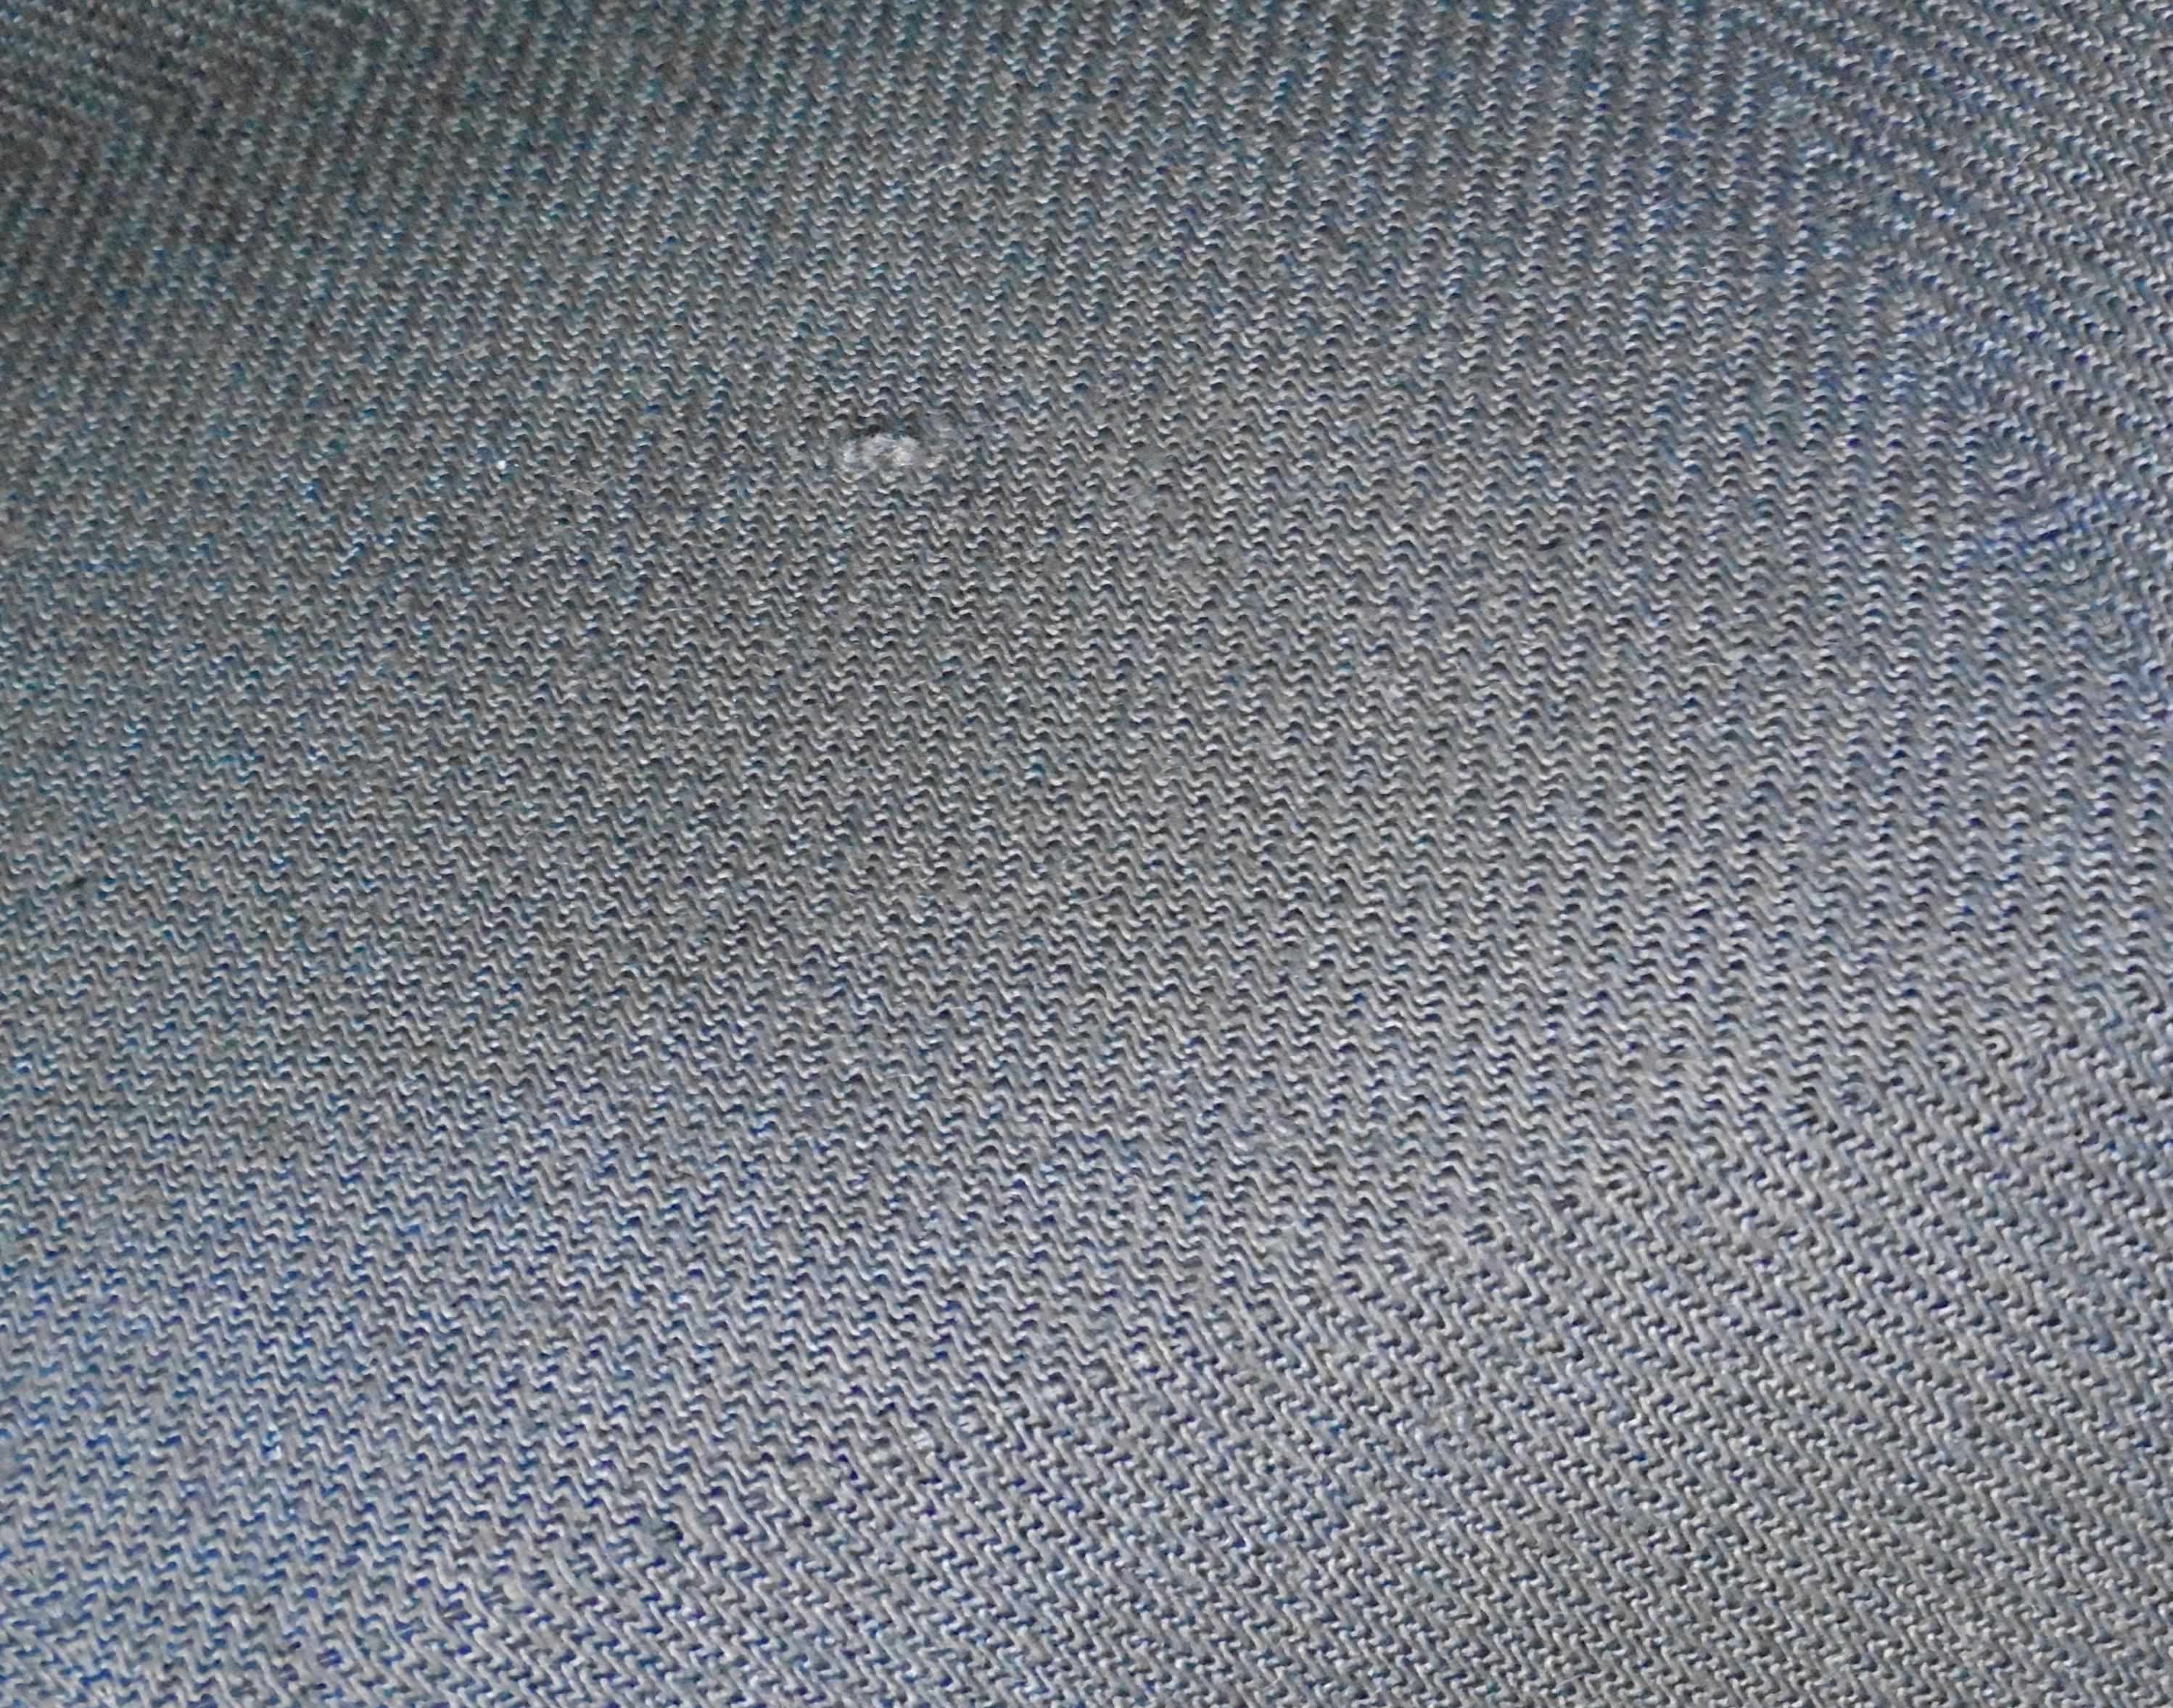knot: (799, 397, 979, 506)
